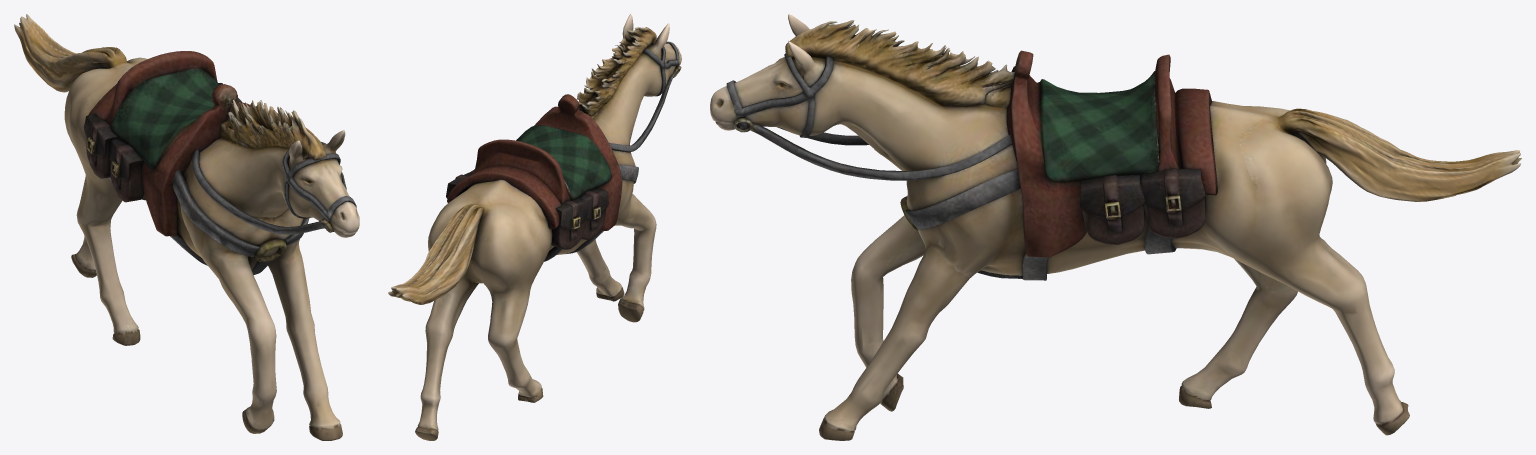
File: MZ4250 - Warhorse Running_Golden Horse.glb
3 renders of one model, left to right at view 1: azimuth 30°, elevation 25°; view 2: azimuth 150°, elevation 25°; view 3: azimuth 270°, elevation 25°, orthographic. The views are drawn at different scales.
Visible parts, largest first — view 1: Warhorse running.001; view 2: Warhorse running.001; view 3: Warhorse running.001.
Part boxes in pixels (bbox=[...]): Warhorse running.001: bbox=[14, 14, 359, 440]; Warhorse running.001: bbox=[388, 14, 681, 440]; Warhorse running.001: bbox=[710, 14, 1521, 440].
Size of the model in its own units: 18.25 by 38.98 by 71.12.
1 material, 1 textured.
